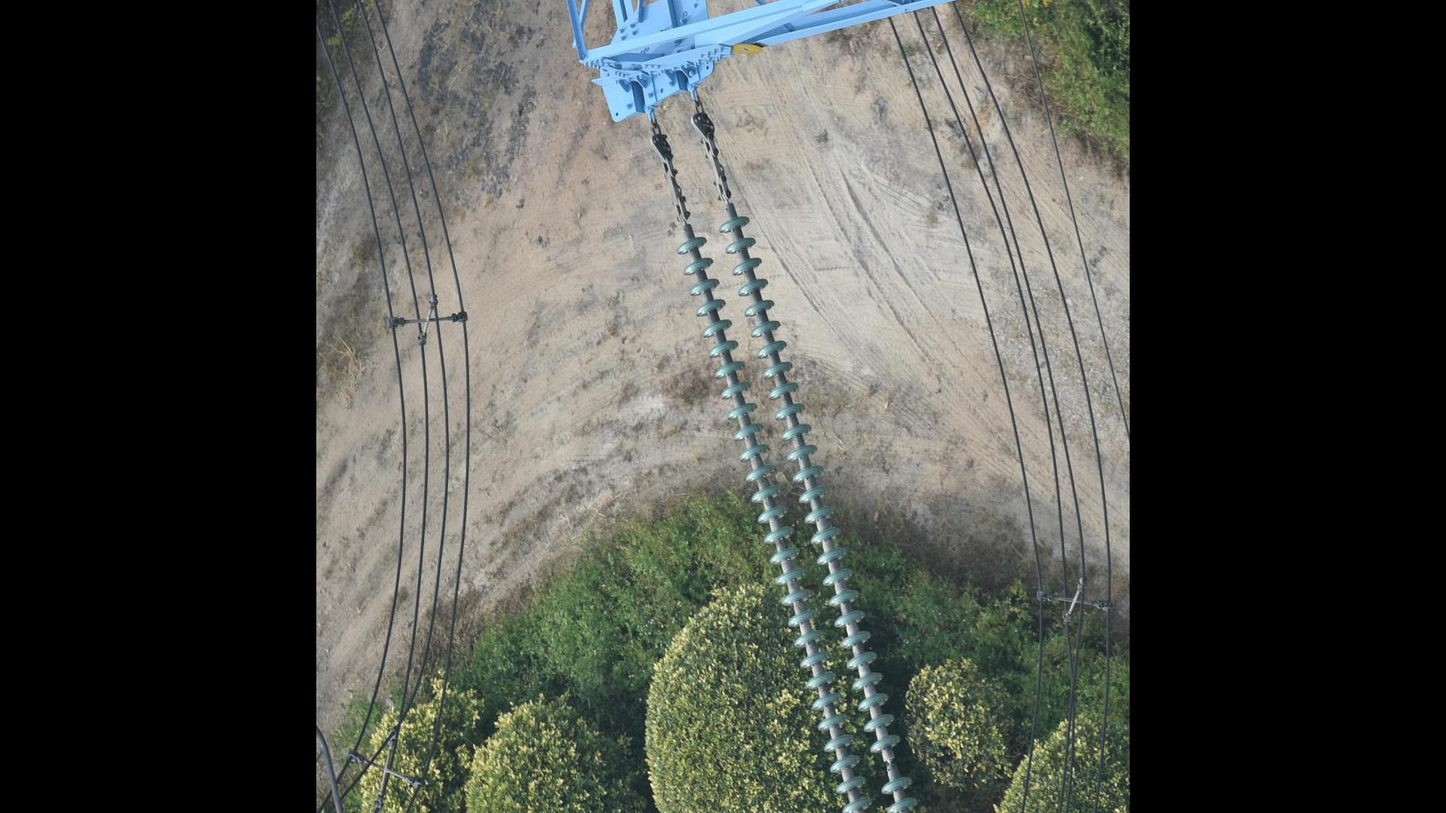insulator: (674, 209, 927, 813)
insulator_stringdrop: (868, 730, 917, 797)
